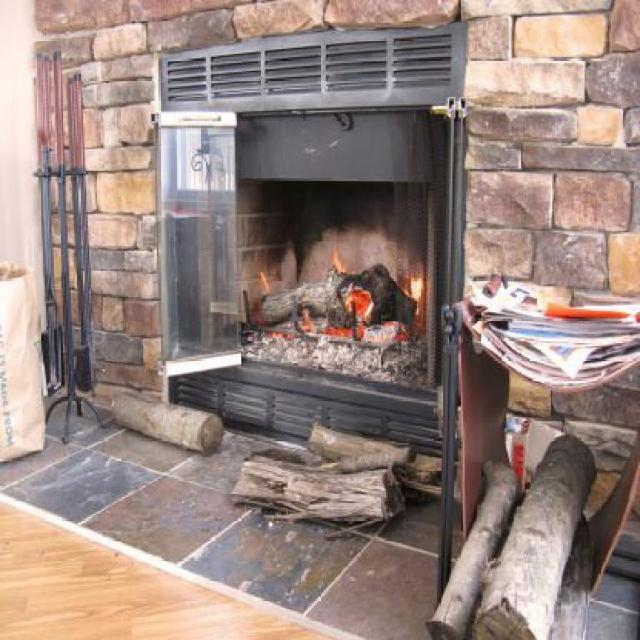Fire: (323, 242, 348, 276), (404, 273, 430, 301)
